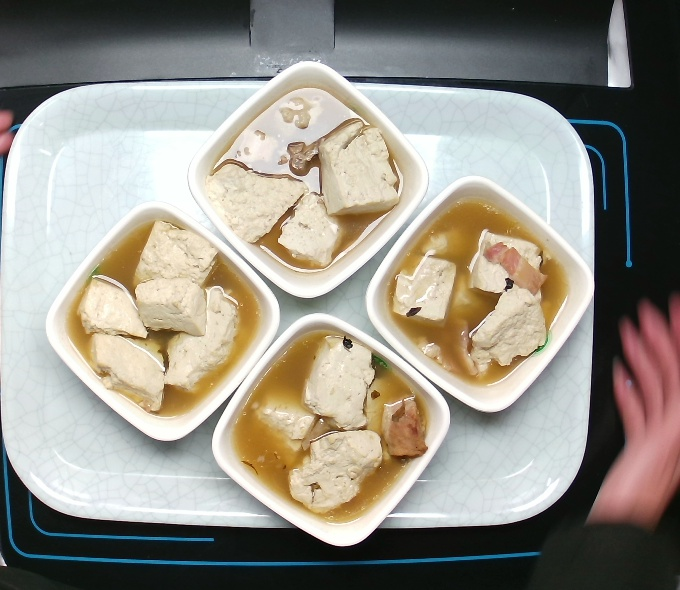wcq-DouFuRouTang: (221, 328, 435, 526), (67, 216, 265, 421), (203, 82, 411, 273), (385, 198, 573, 390)
